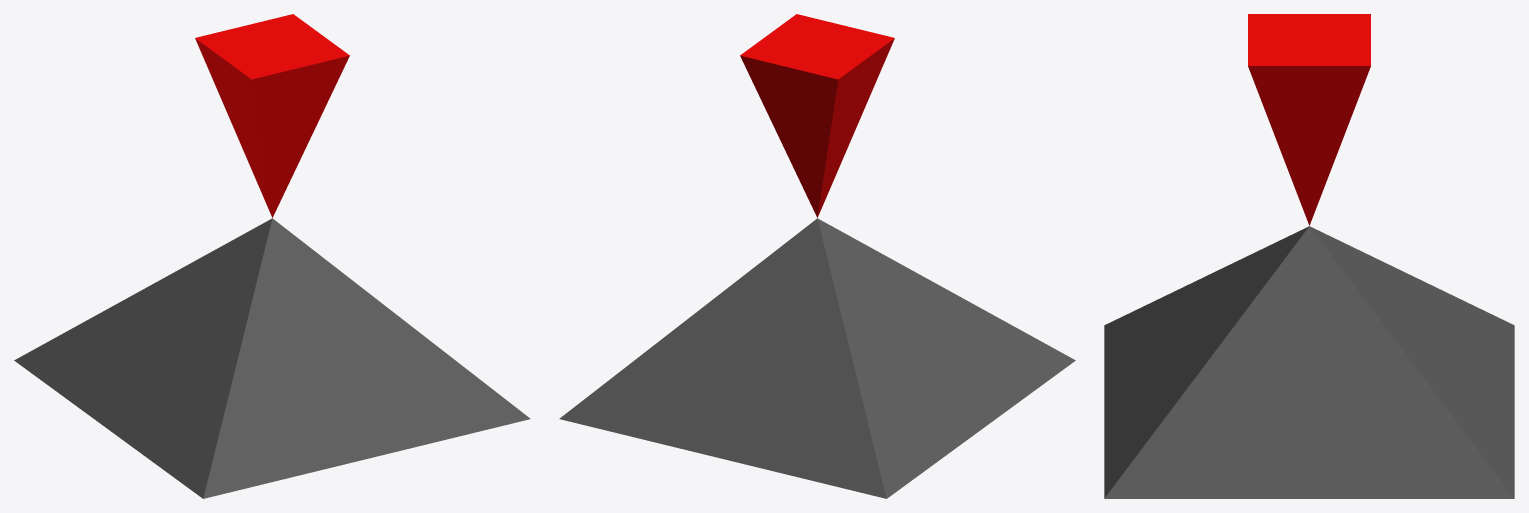
The model's file is skin_3_2_model.fbx.
The picture shows the model from 3 angles, left to right: view 1: azimuth 30°, elevation 25°; view 2: azimuth 150°, elevation 25°; view 3: azimuth 270°, elevation 25°; orthographic projection. The views are drawn at different scales.
Parts seen in each view (by area): view 1: Cube; view 2: Cube; view 3: Cube.
Part boxes in pixels (left/top/right/bottom): Cube: left=14, top=14, right=530, bottom=498; Cube: left=559, top=14, right=1075, bottom=498; Cube: left=1104, top=14, right=1514, bottom=498.
Bounding box in the file's own units: 200 × 200 × 200.
